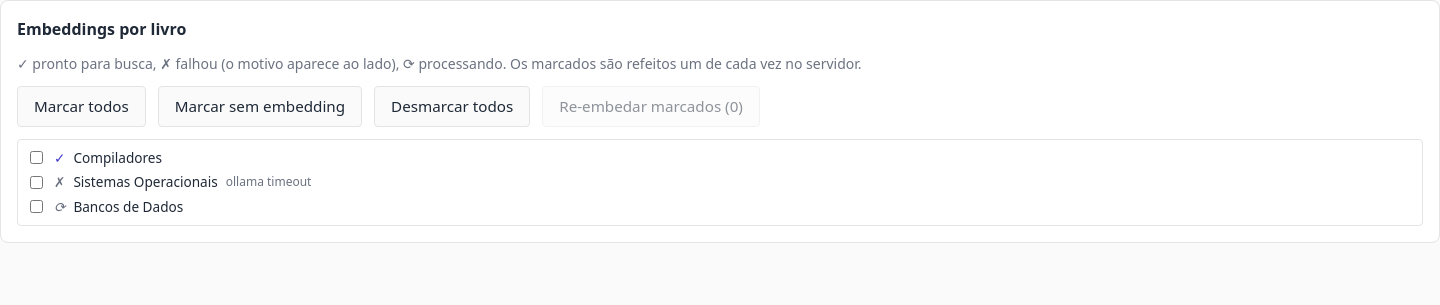
Scenario: AdminEmbeddings › re-embeds only the marked books in one batch
This screenshot has width=1440, height=305.
Expected: the checkbox labelled "✗ Sistemas Operacionais ollama timeout" is shown, [30,176,43,189]
What coordinates should you click on to do the following:
click the button "Marcar sem embedding"
I would click on:
 (260, 106)
Its box is [158,86,362,127].
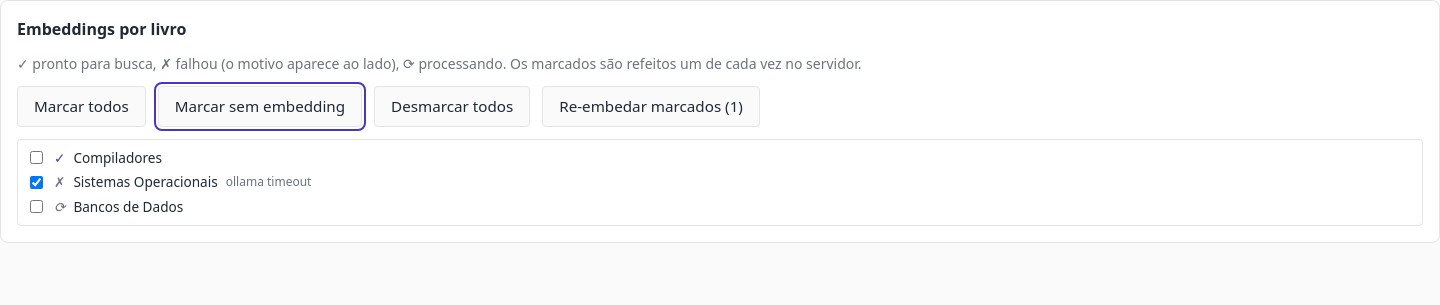
What coordinates should you click on to do the following:
click the button "Re-embedar marcados (1)"
I would click on:
 (651, 106)
Its box is [542,86,760,127].
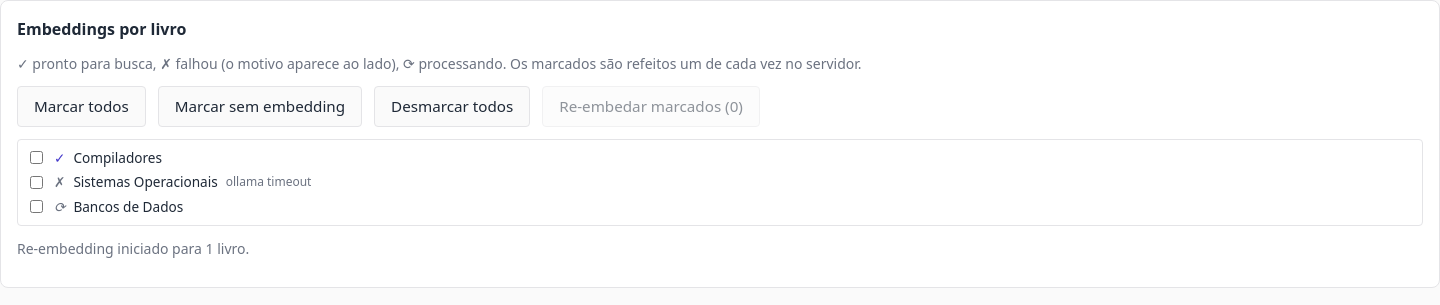
Expected: the text "Re-embedding iniciado para 1 livro." is shown, [17,239,249,258]
